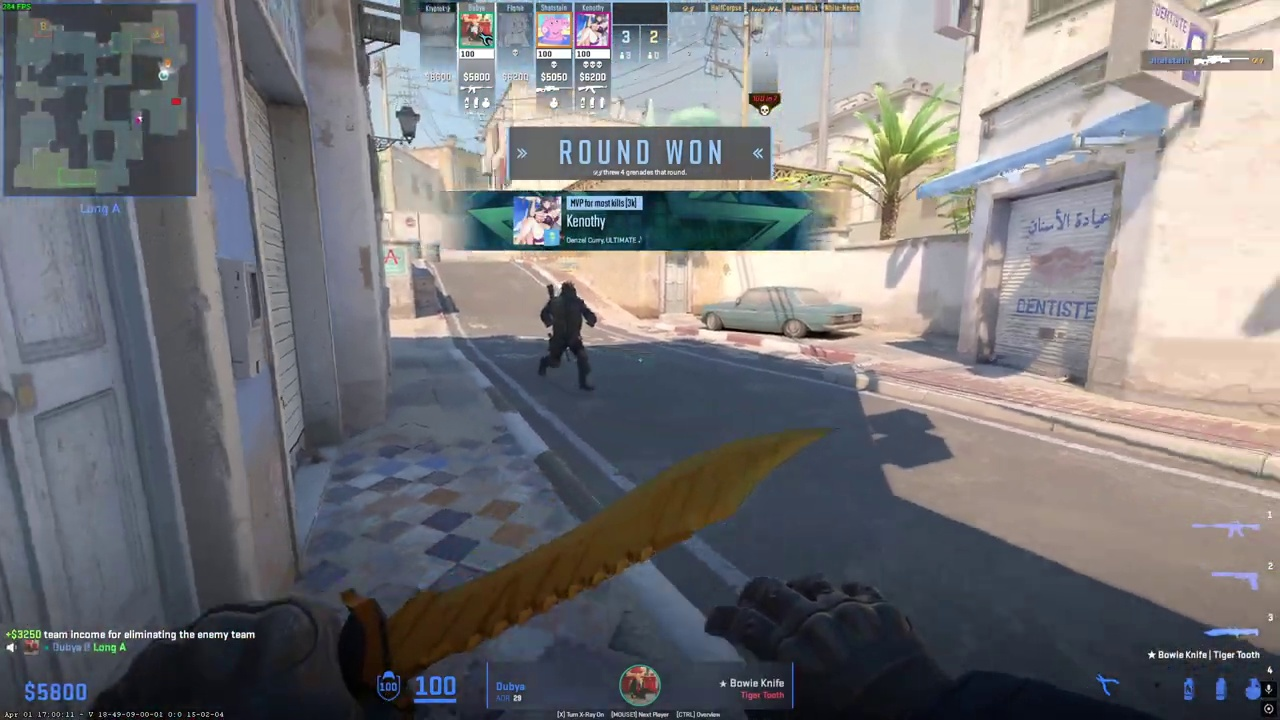CT: (539, 281, 596, 391)
